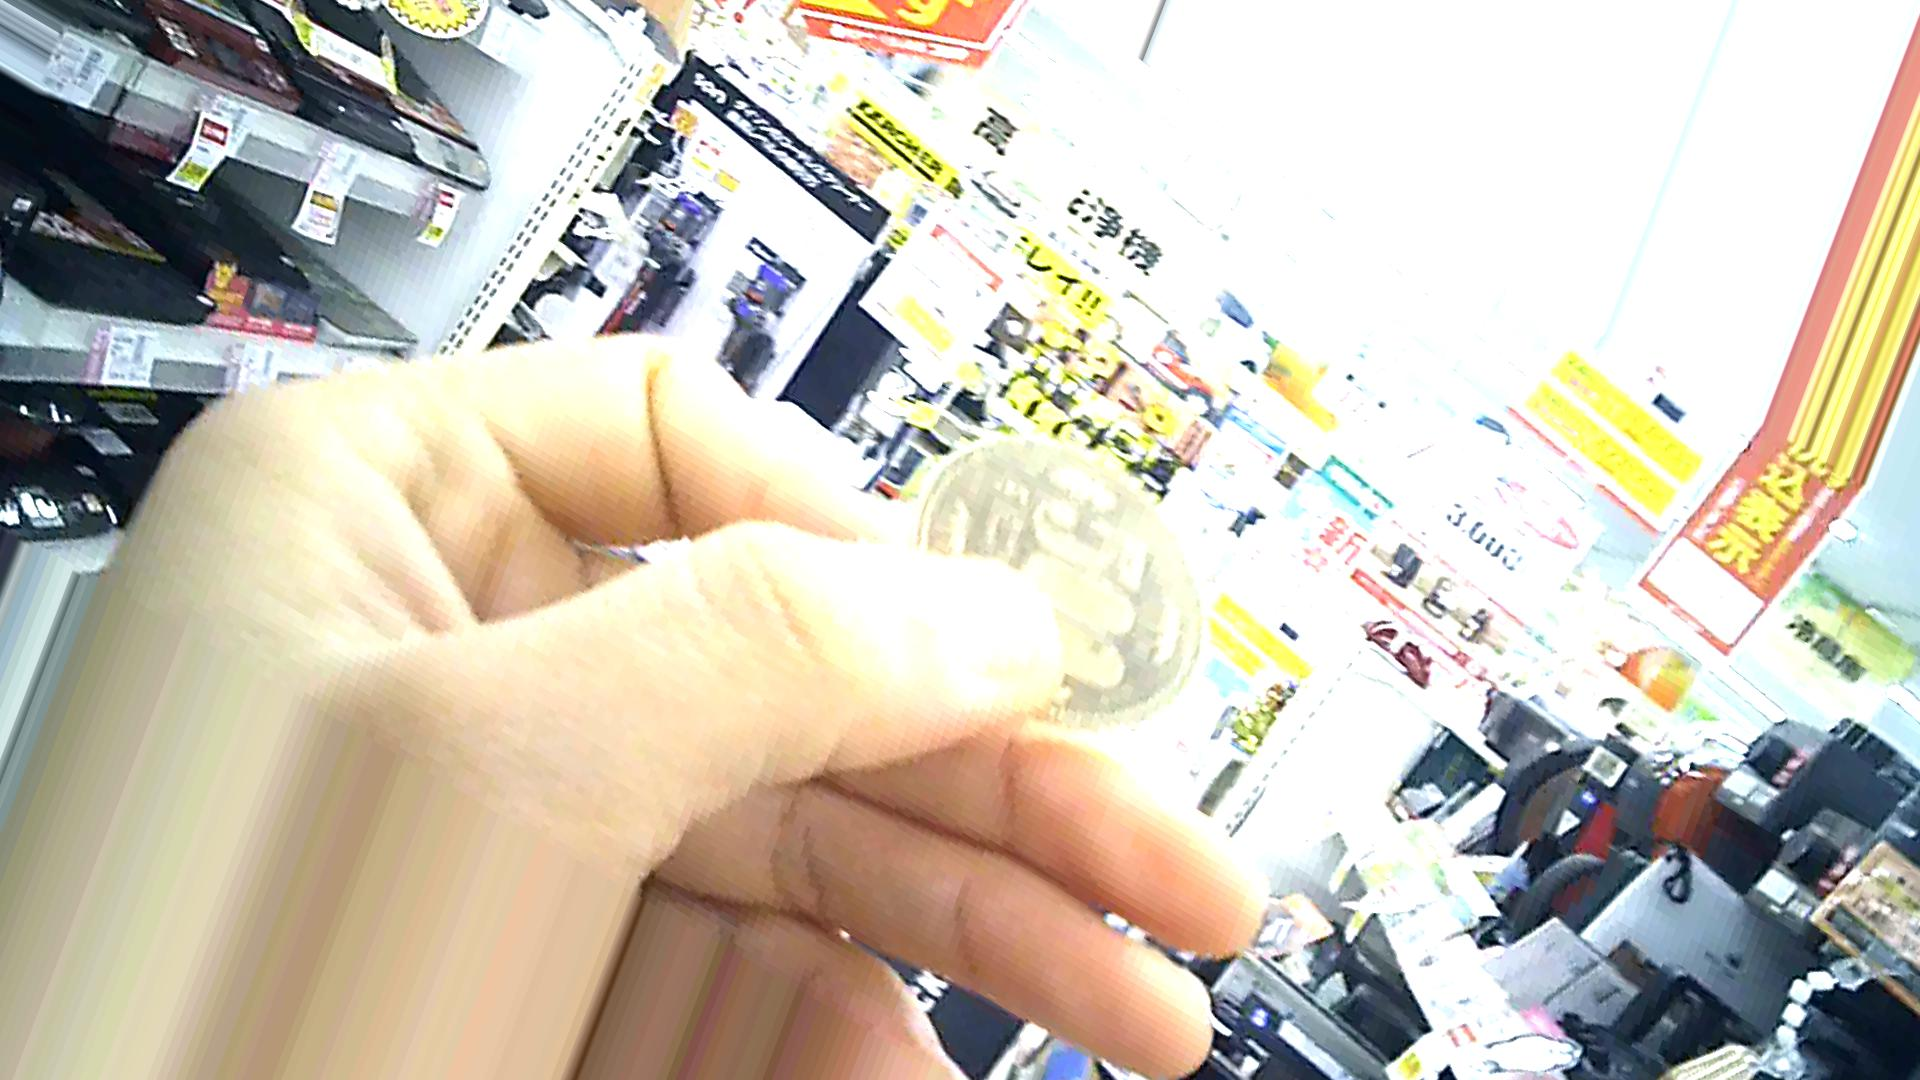500 Yen: (903, 421, 1217, 732)
